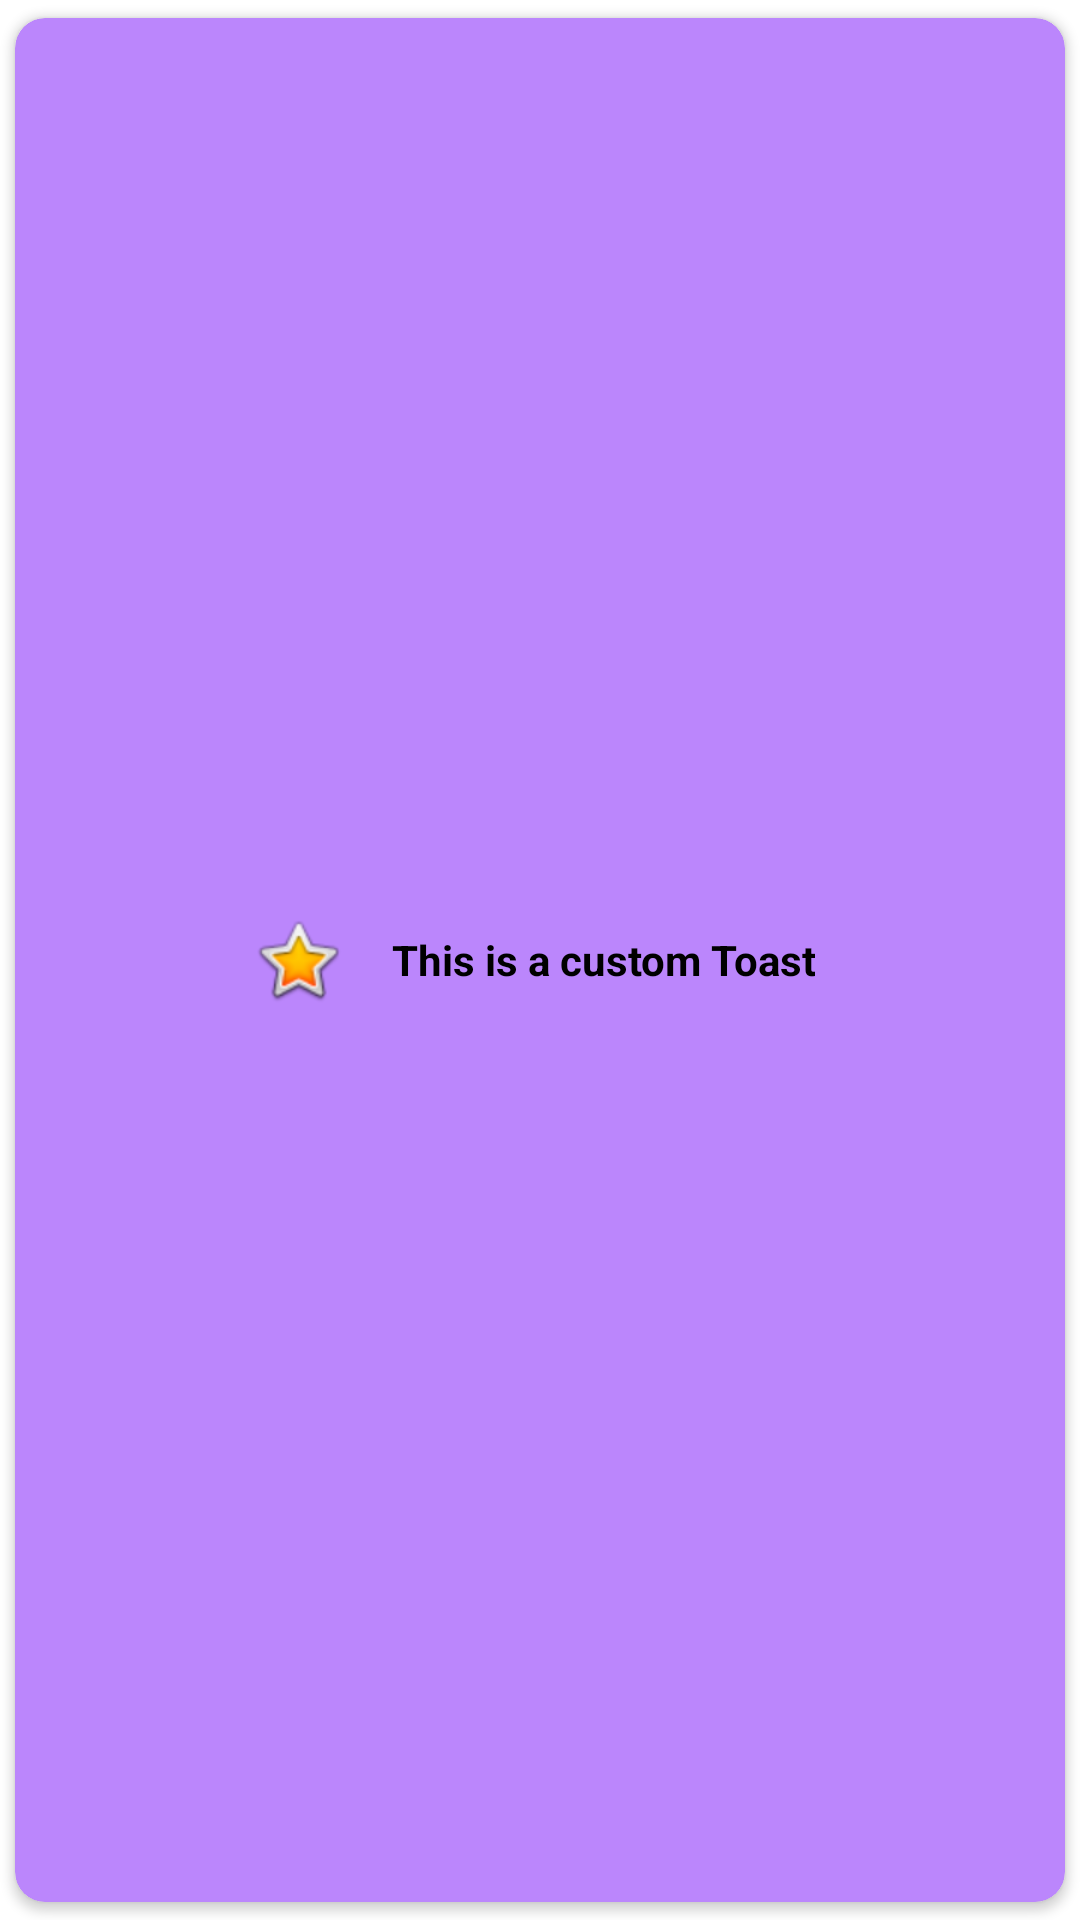

Icon bounding boxes for this 1080*1920 phone screenshot, format (x1, y1, x2, y2):
star on: (259, 922, 339, 1000)
